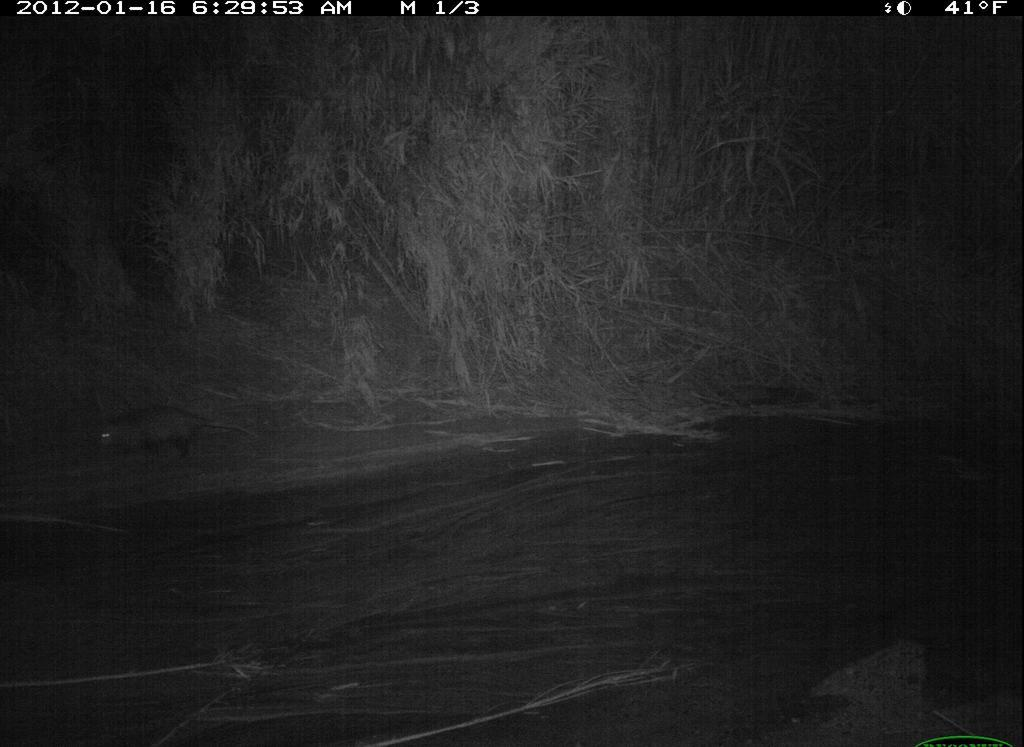opossum: (76, 401, 267, 467)
